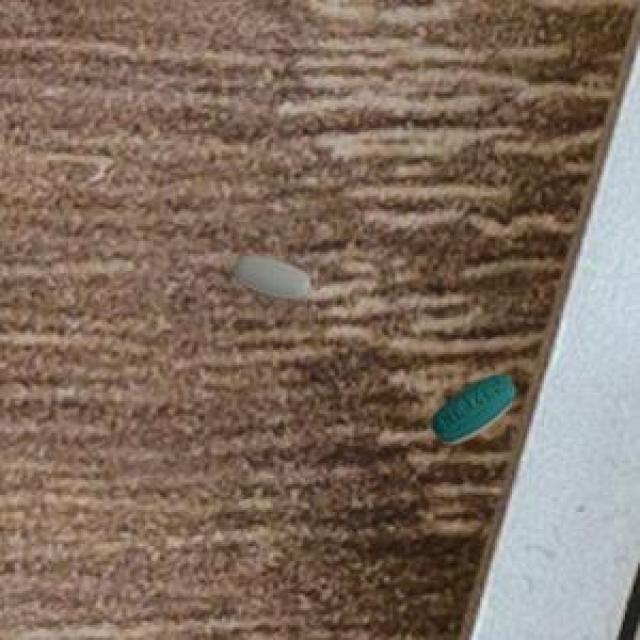Neozep: (418, 362, 522, 458), (224, 239, 321, 308)
